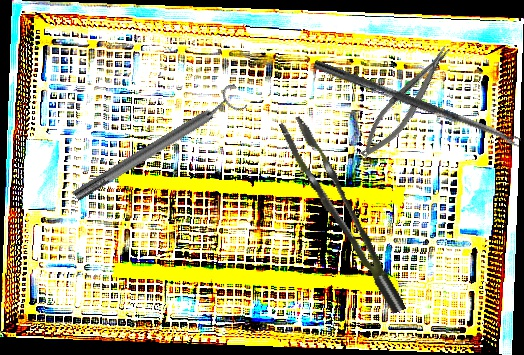Fixation Ring: (66, 81, 250, 209)
Needle Holder: (351, 40, 462, 165)
Surgical Spoon: (312, 59, 522, 149)
Tissue Forceps: (279, 106, 406, 327)
